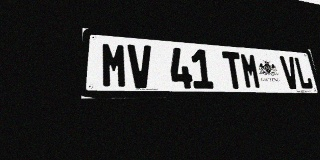1: (190, 49, 214, 89)
4: (168, 47, 193, 89)
L: (293, 57, 314, 89)
M: (101, 42, 128, 88), (239, 53, 262, 89)
T: (222, 51, 245, 89)
V: (127, 44, 154, 88), (279, 56, 300, 89)
